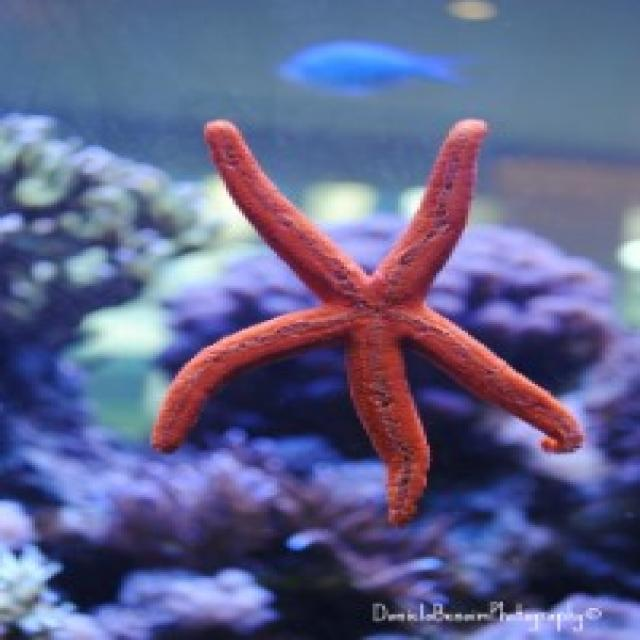Starfish: (152, 103, 589, 517)
